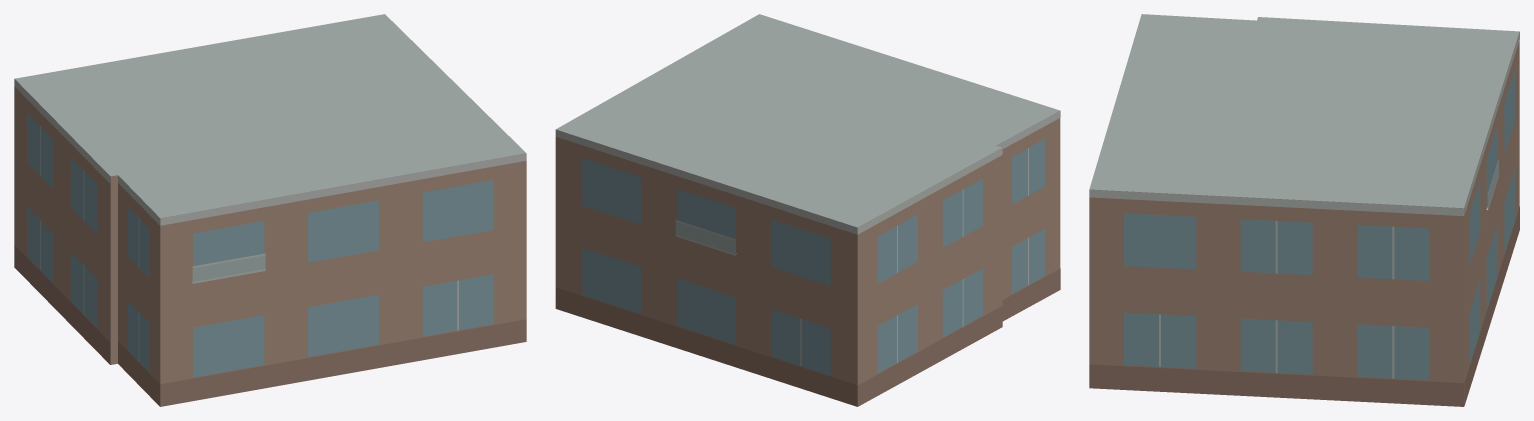
The model's file is survey-upis-32826517.glb.
The picture shows the model from 3 angles, left to right: view 1: azimuth 30°, elevation 25°; view 2: azimuth 150°, elevation 25°; view 3: azimuth 270°, elevation 25°; orthographic projection. The views are drawn at different scales.
Visible parts, largest first — view 1: survey-upis-32826517.tmp; view 2: survey-upis-32826517.tmp; view 3: survey-upis-32826517.tmp.
Boxes of the visible parts, left/top/right/bottom form: survey-upis-32826517.tmp: left=14, top=14, right=526, bottom=406; survey-upis-32826517.tmp: left=555, top=14, right=1060, bottom=406; survey-upis-32826517.tmp: left=1089, top=14, right=1519, bottom=406.
Size of the model in its own units: 12.8 by 6.1 by 11.99.
